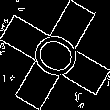O_SE: (22, 24, 88, 86)
